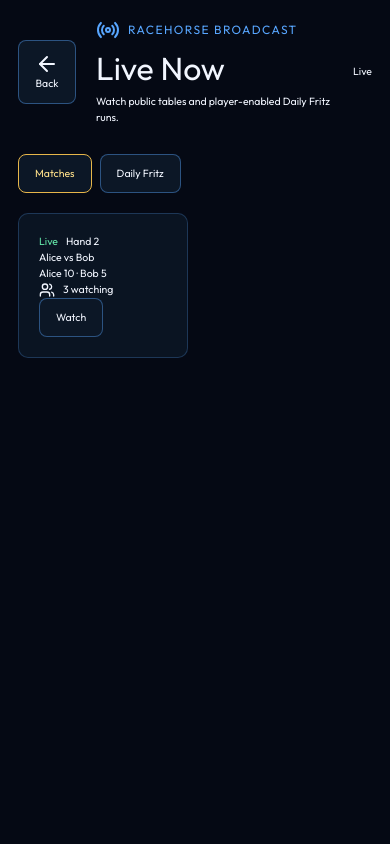
Test: LiveNowScreen › renders discovery categories and opens one read-only viewer
Expected: the heading "Alice vs Bob" is shown, [39, 250, 94, 264]
Step 1. Click the button with aria-label "watch alice versus bob" → point(71, 317), box [39, 298, 103, 337]
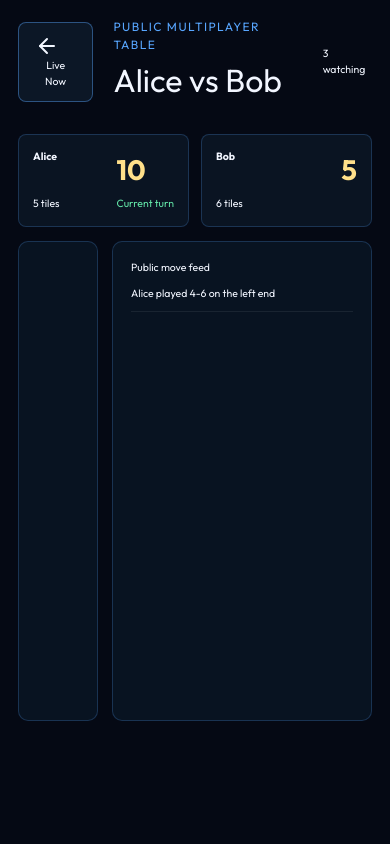
Expected: the element named "Alice, score 10, 5 tiles" is shown, [18, 134, 189, 227]
Expected: the list item "Alice played 4-6 on the left end" is shown, [131, 276, 353, 312]
